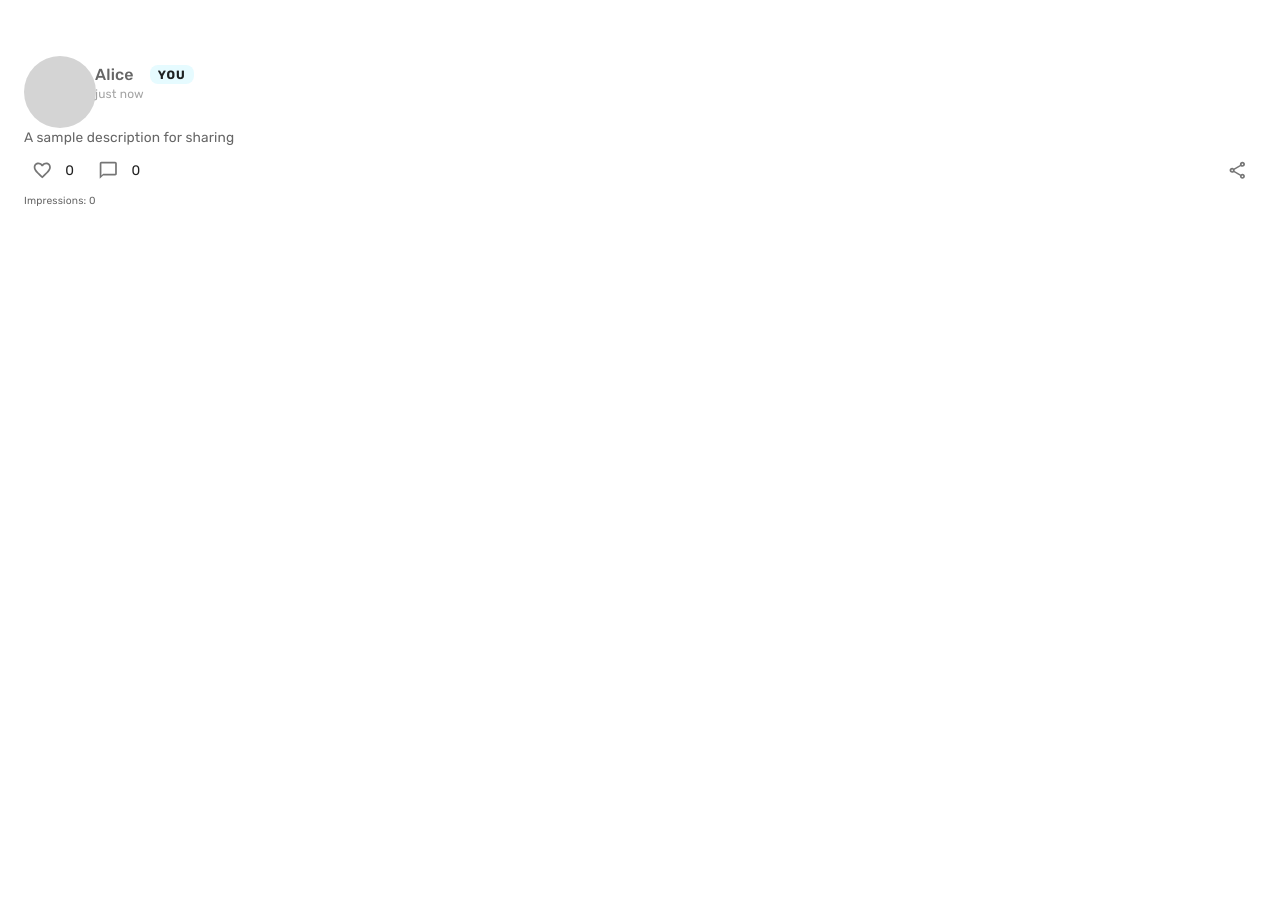
Share action › falls back to clipboard when Web Share API is unavailable
What coordinates should you click on to do the following:
click the button named "share post"
I would click on:
 (1238, 170)
Its box is [1219, 152, 1256, 188].
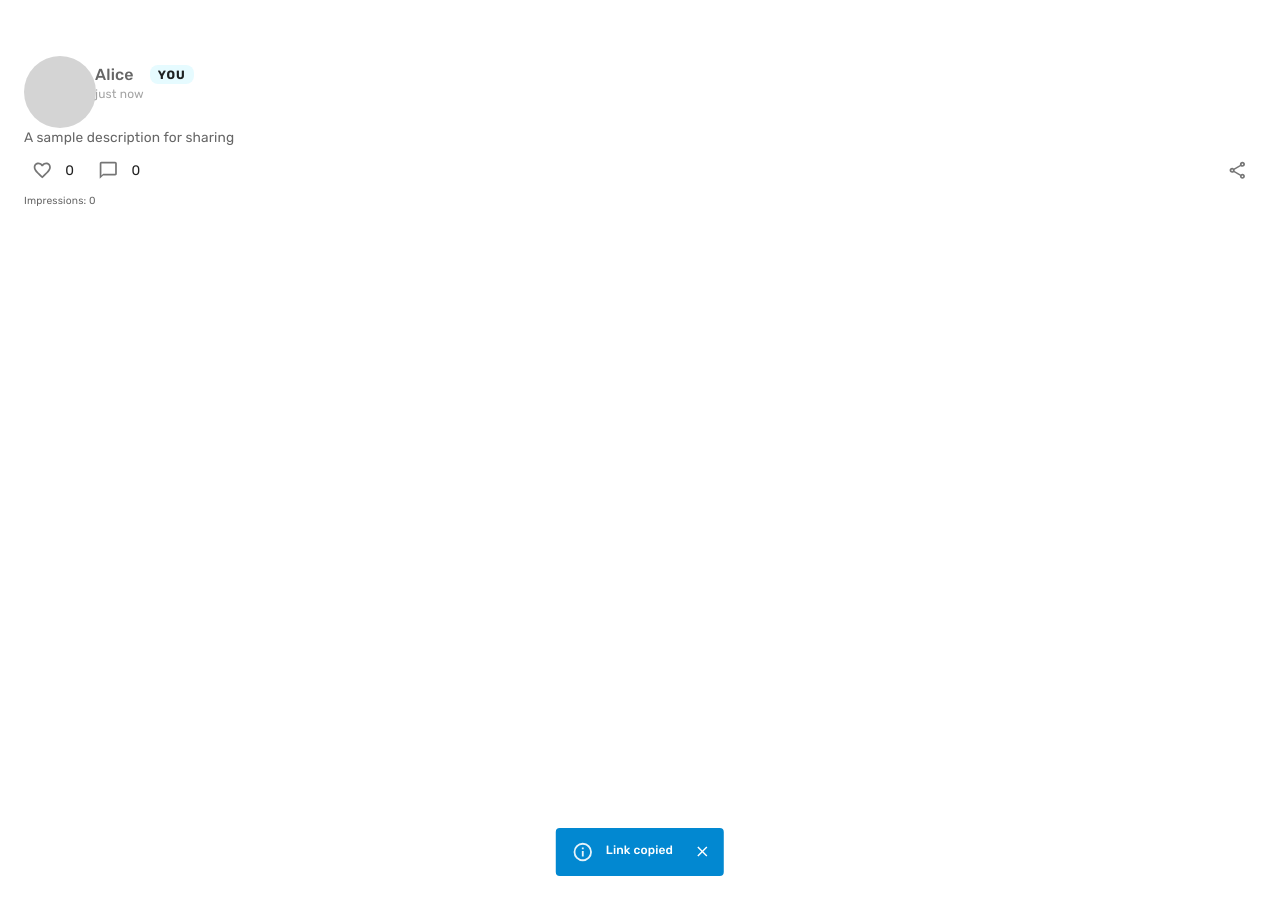
Expected: the text "Link copied" is shown, [606, 843, 673, 857]
